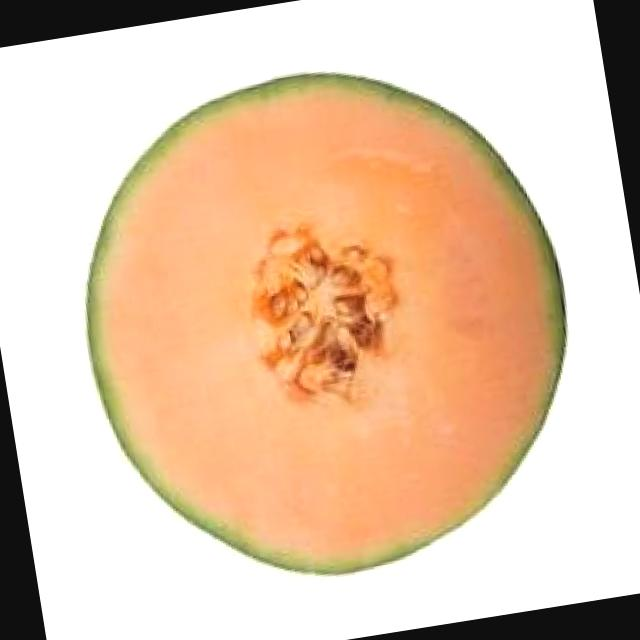cantaloupe: (52, 40, 600, 606)
